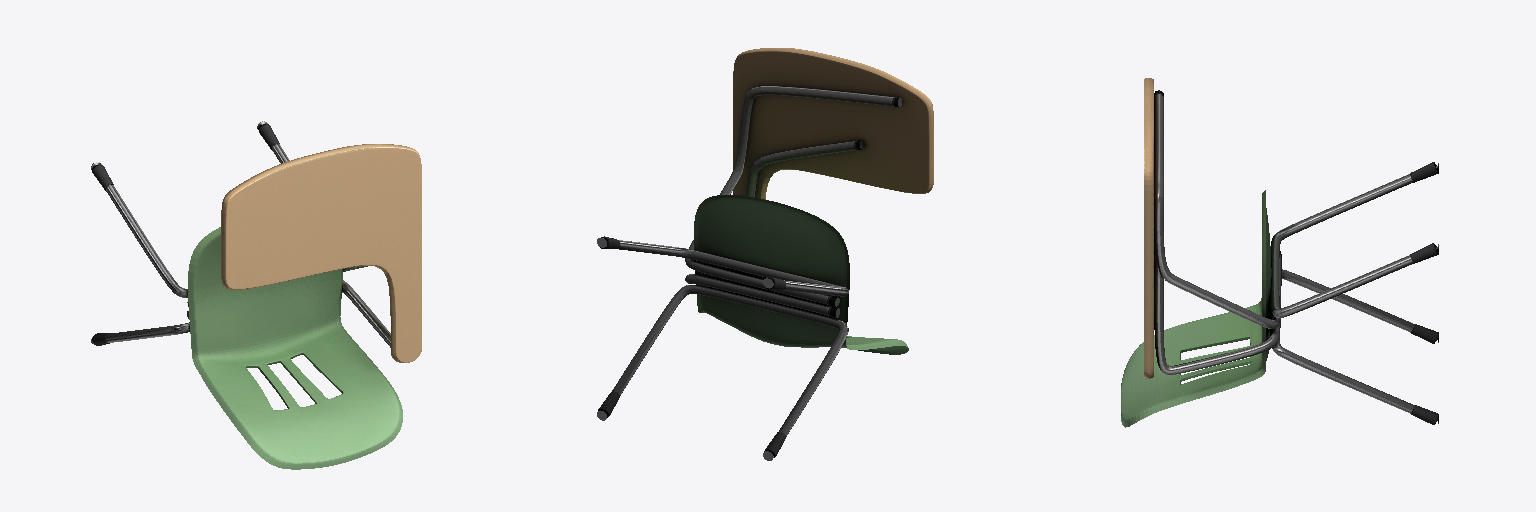
3 views of the same model, side by side, from view 1: azimuth 30°, elevation 25°; view 2: azimuth 150°, elevation 25°; view 3: azimuth 270°, elevation 25° (orthographic).
Visible parts, largest first — view 1: 10246_School_Desk_v1_SG; view 2: 10246_School_Desk_v1_SG; view 3: 10246_School_Desk_v1_SG.
Boxes of the visible parts, box(x1,y1,x2,y2) form: 10246_School_Desk_v1_SG: box(91, 121, 421, 469); 10246_School_Desk_v1_SG: box(597, 48, 933, 460); 10246_School_Desk_v1_SG: box(1121, 78, 1438, 427).
Size of the model in its own units: 56.91 by 82.39 by 78.94.
1 materials, 1 textured.